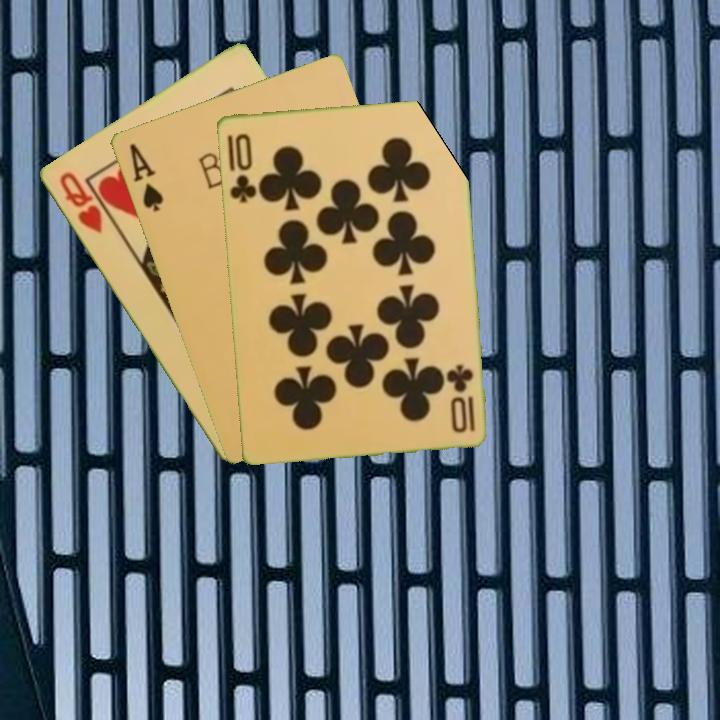10c: (444, 360, 478, 436), (226, 129, 259, 206)
As: (125, 139, 166, 215)
Qh: (55, 167, 105, 236)
